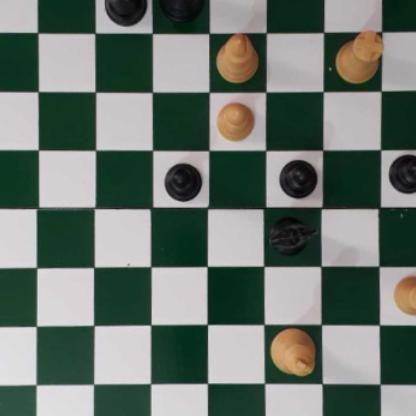black-king: (159, 0, 207, 20)
black-knight: (269, 213, 320, 257)
black-pawn: (162, 160, 203, 202), (279, 156, 318, 198), (387, 153, 416, 194)
black-rook: (100, 0, 149, 27)
white-bishop: (215, 33, 258, 82)
white-king: (268, 326, 315, 380)
white-pawn: (214, 99, 255, 142), (390, 274, 416, 317)
white-rook: (334, 29, 386, 83)
